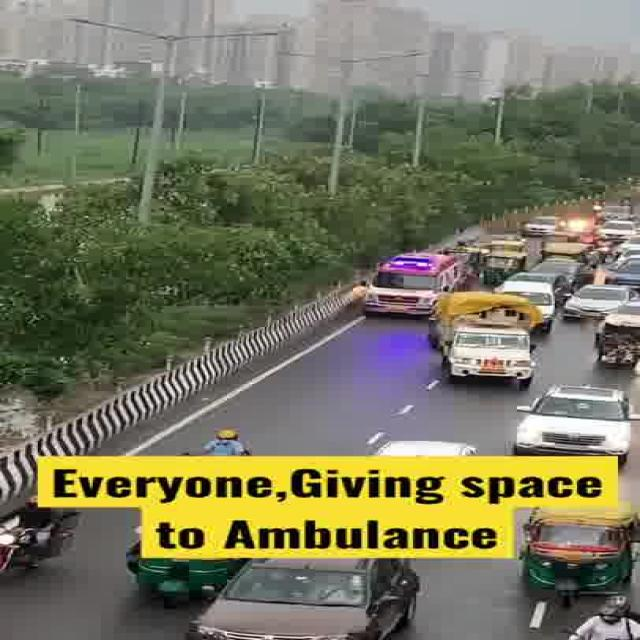ambulance: (363, 248, 464, 316)
